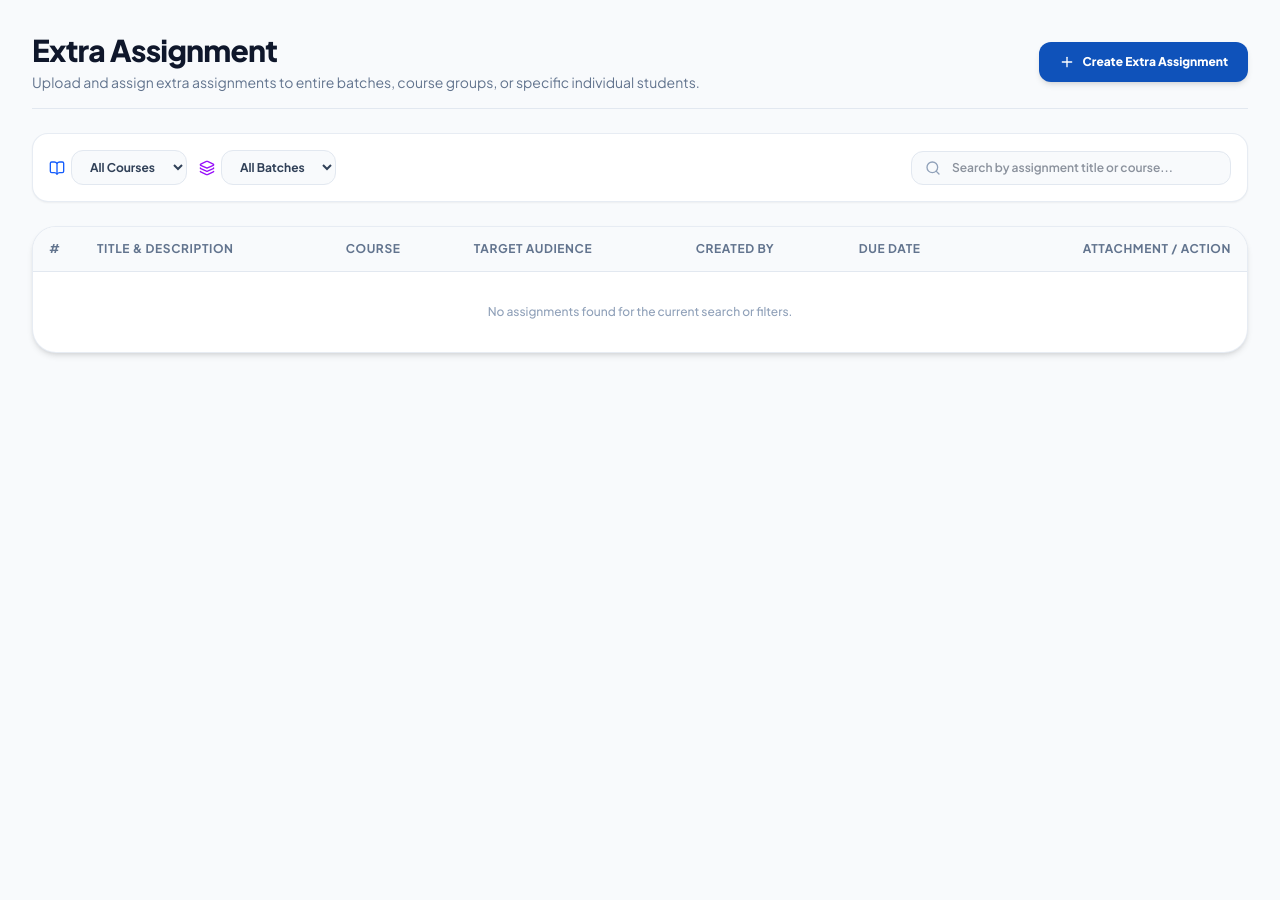
it: Part B: Trainer Portal Enhancements (B1, B2, B3) › B2: TrainerAssignmentsPage does NOT offer "All Course Students", only "Entire Batch" and "Specific Student"
Expected: the text "Create Extra Assignment" is shown, [1082,54,1228,70]
Click the button "Create Extra Assignment": (1143, 62) [1038,42,1248,82]
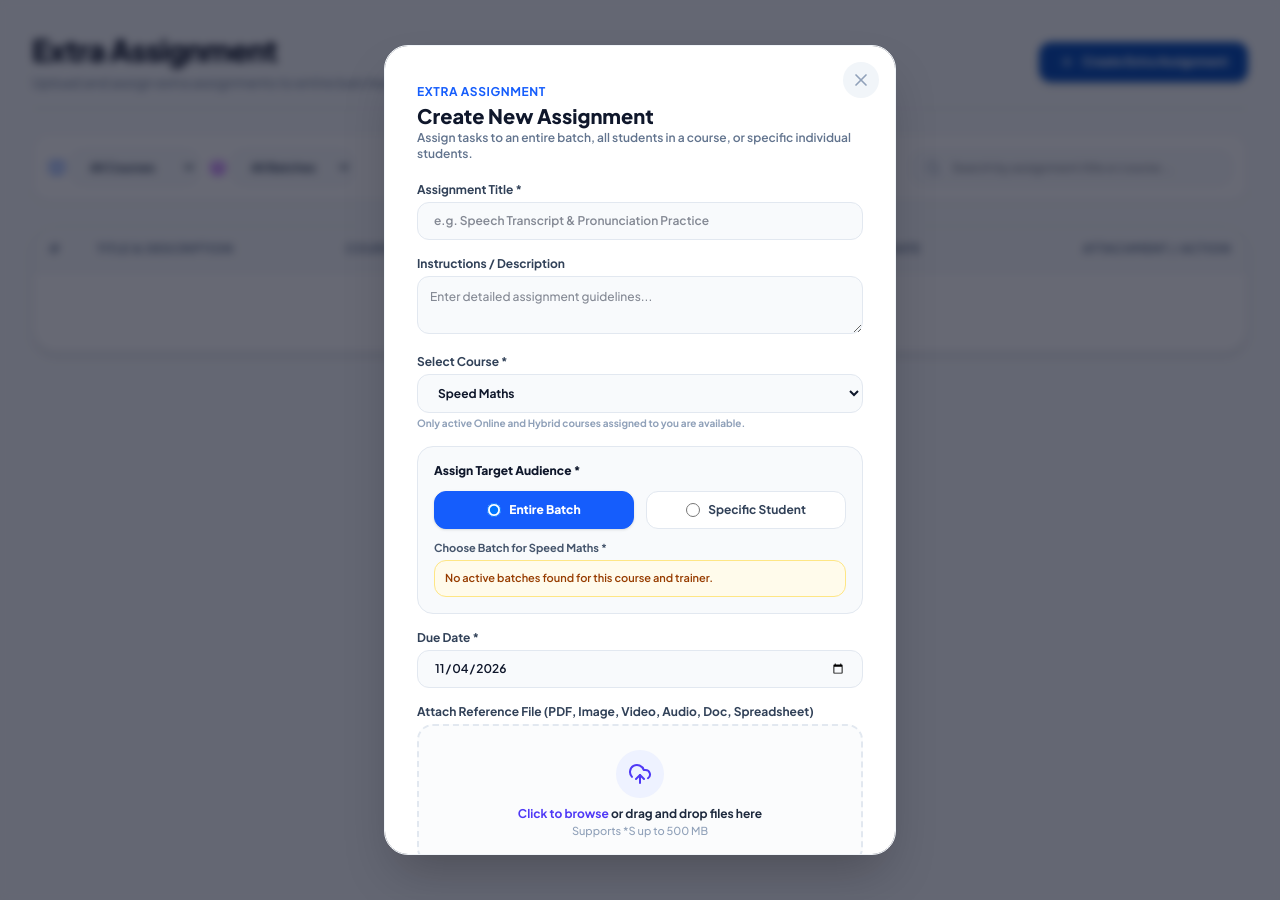
Expected: the text "Assign Target Audience *" is shown, [434,463,580,478]
Expected: the button "Entire Batch" is shown, [434,491,634,529]
Expected: the button "Specific Student" is shown, [646,491,846,529]
